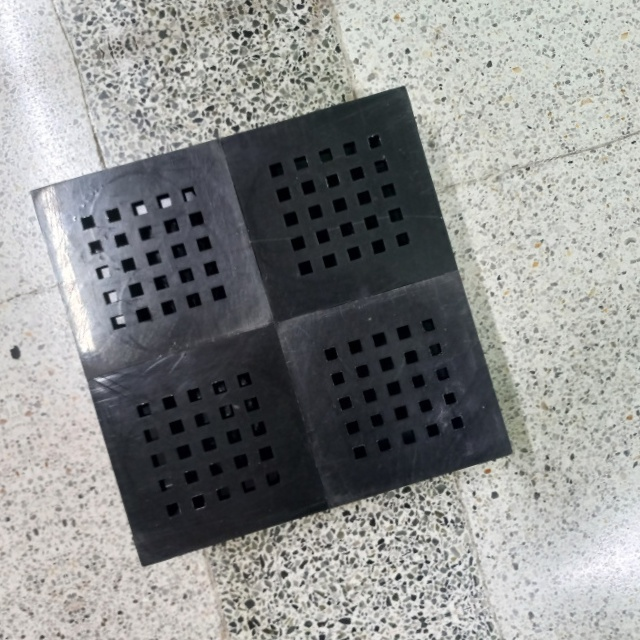pallet: (30, 83, 524, 575)
